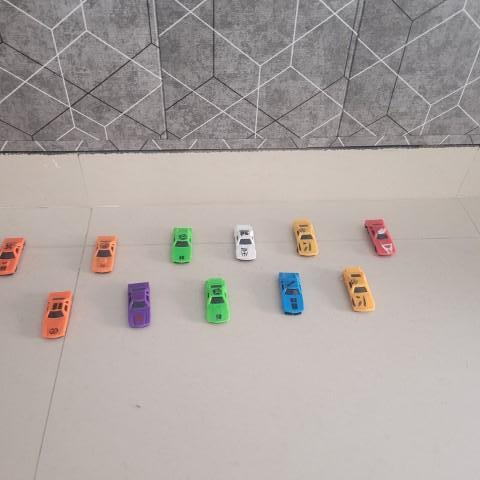car: (120, 277, 155, 330), (340, 262, 376, 313), (202, 274, 235, 328), (361, 213, 398, 260), (43, 287, 75, 341), (277, 268, 306, 318), (86, 232, 119, 274), (290, 215, 322, 258), (230, 221, 259, 264), (167, 223, 195, 266)
